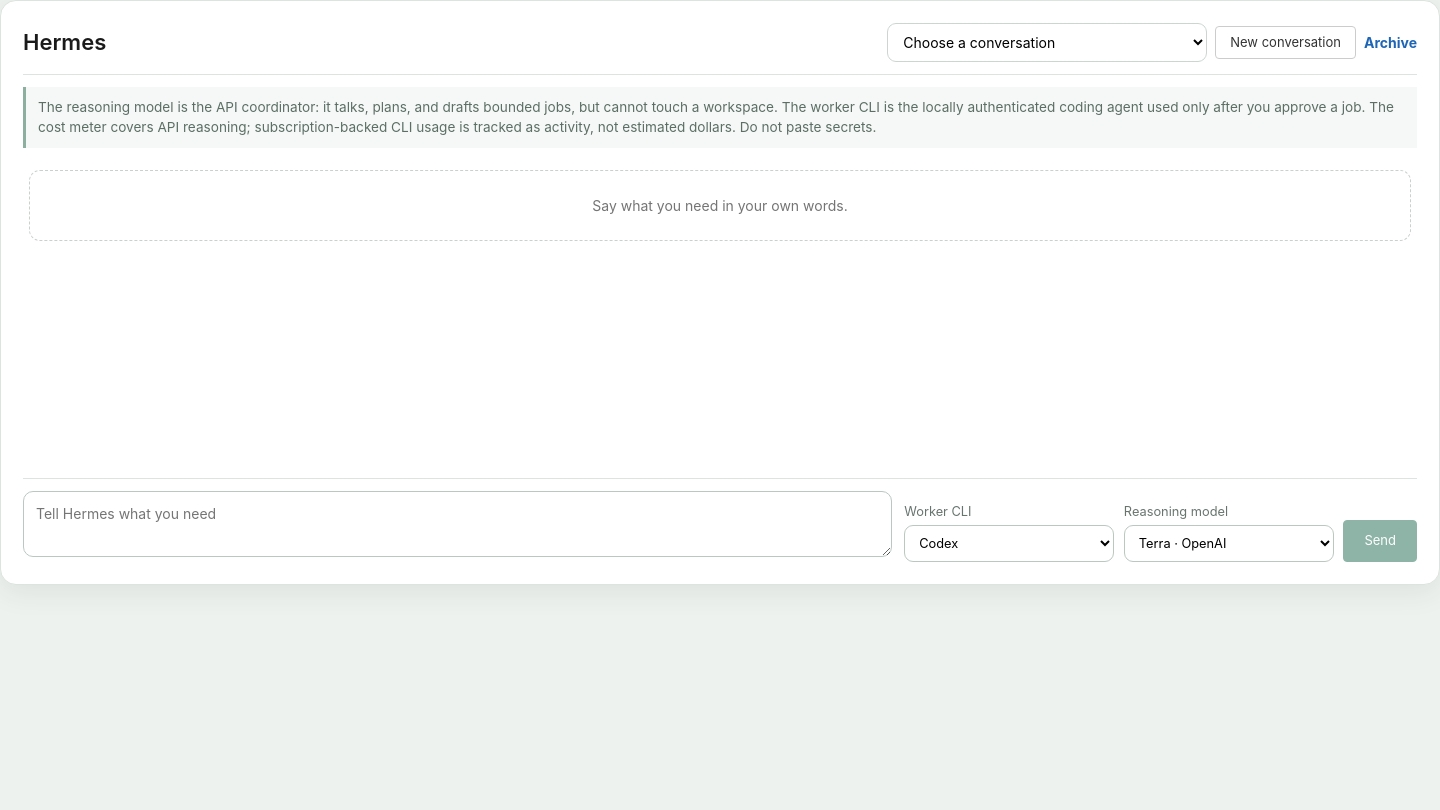
Test: Hermes chat › opens a conversation from the first thing the operator says
Expected: the form named "Message" is shown, [23,478,1417,562]
Expected: the element with class "hermes-chat__thread" is shown, [29,170,1411,241]
In the text box named "Message": (458, 524) [23,491,892,557], type "Tidy last quarter"
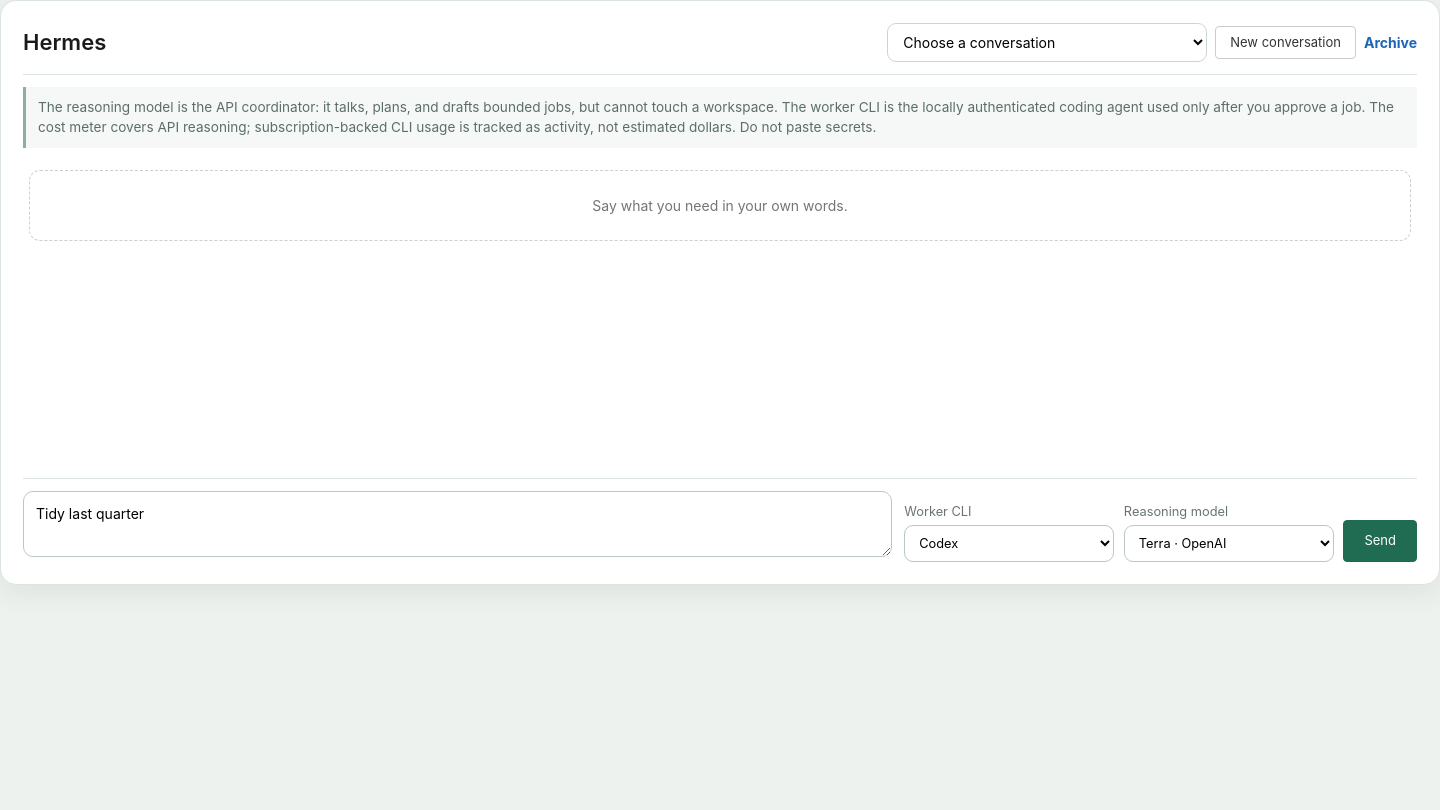
Click the button "Send": click(1380, 541) [1343,520,1417,562]
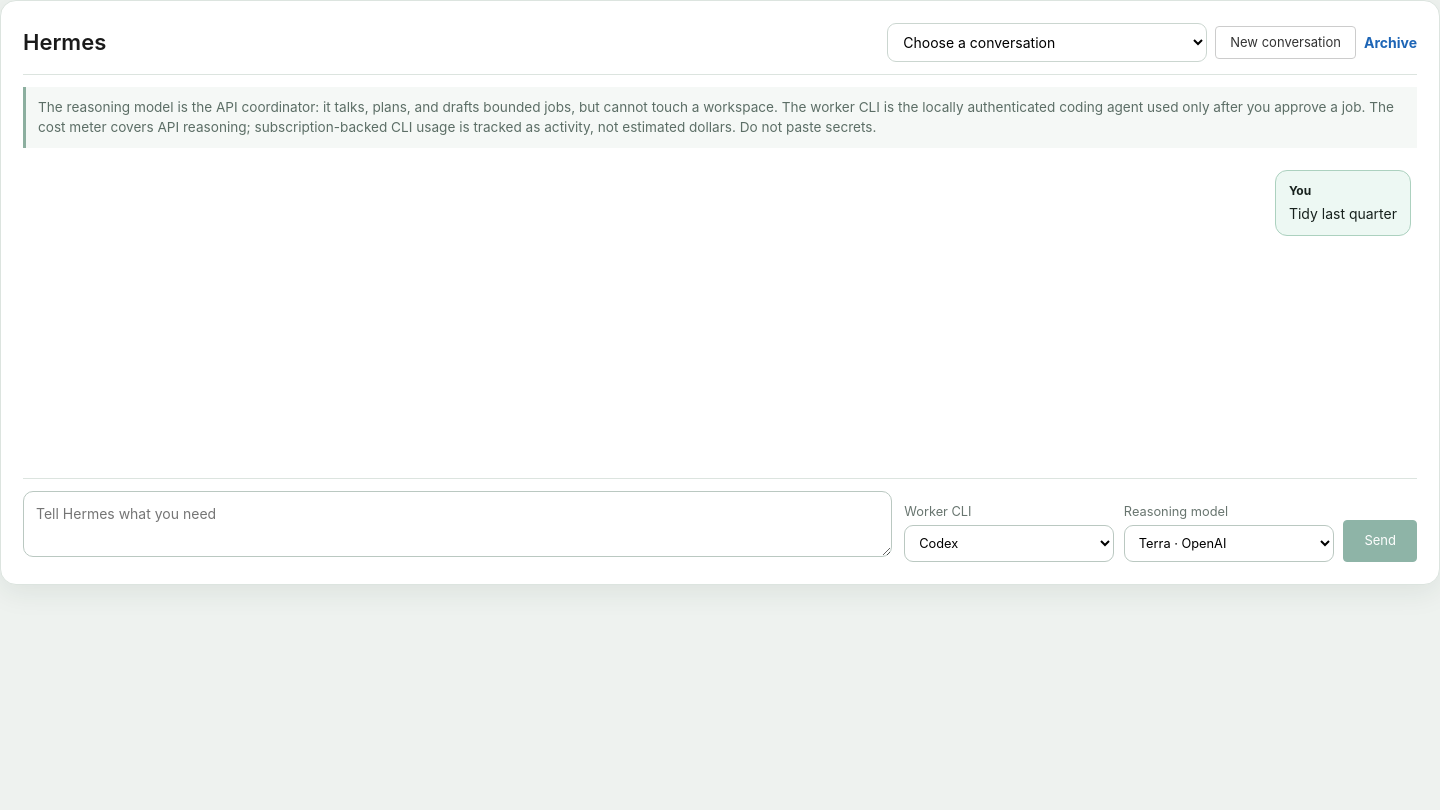
Expected: the text "Tidy last quarter" is shown, [1289,203,1397,224]
